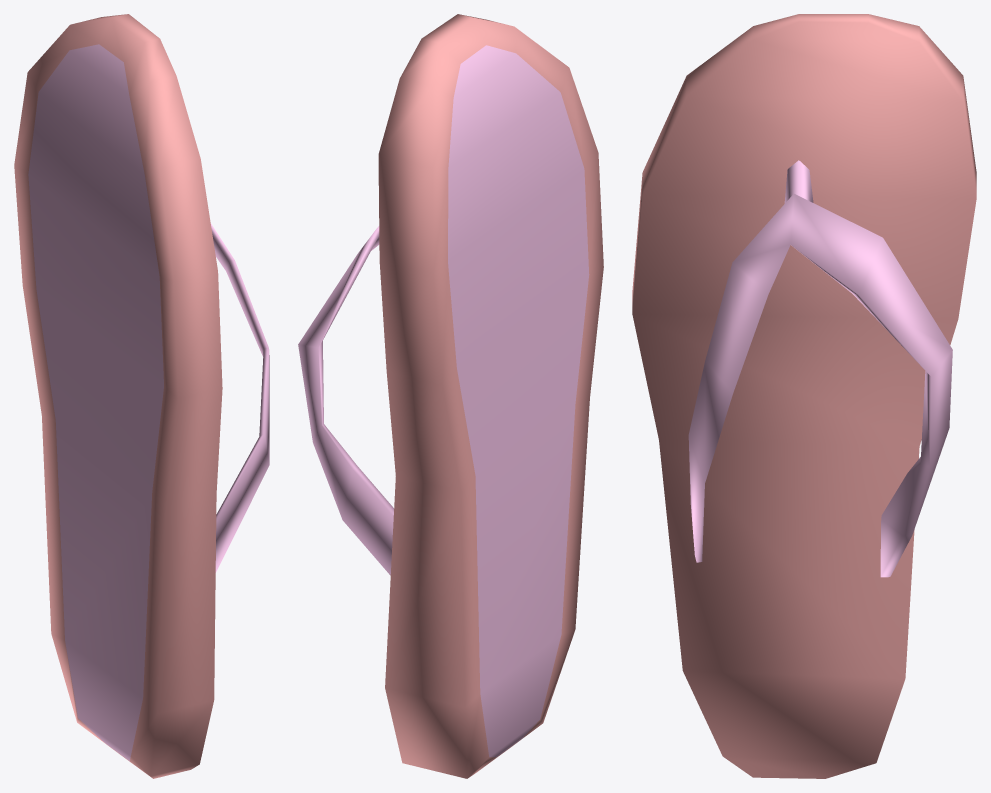
File: Chancla.fbx
The picture shows the model from 3 angles, left to right: view 1: azimuth 30°, elevation 25°; view 2: azimuth 150°, elevation 25°; view 3: azimuth 270°, elevation 25°; orthographic projection. The views are drawn at different scales.
Visible parts, largest first — view 1: Chancla; view 2: Chancla; view 3: Chancla.
Boxes of the visible parts, box(x1,y1,x2,y2) form: Chancla: box(14, 14, 269, 778); Chancla: box(298, 14, 603, 778); Chancla: box(632, 14, 976, 778).
Bounding box in the file's own units: 19.44 × 87.51 × 36.35.
